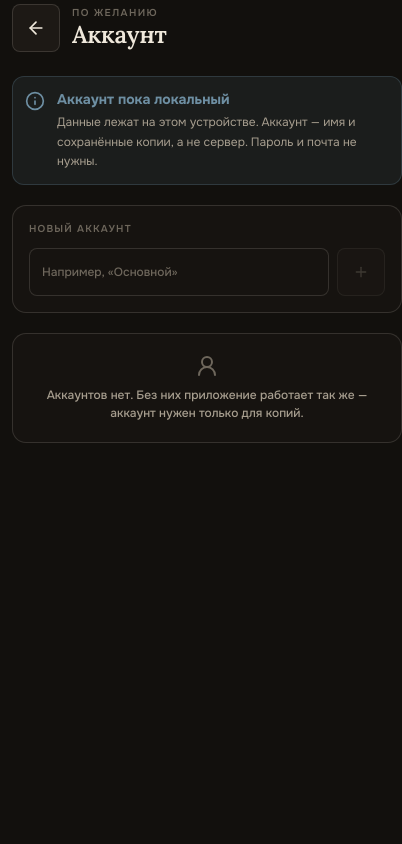
Test: Accounts page › creates an account and marks it as current
The width and height of the screenshot is (402, 844).
Type "Основной" into the field labelled "Новый аккаунт" at {"x": 179, "y": 272}, box [29,248,329,296]
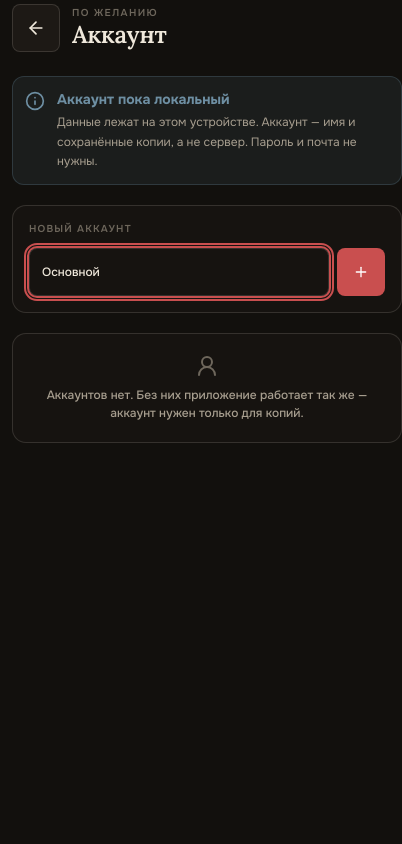
Click the button named "Создать аккаунт" at {"x": 361, "y": 272}, box [337,248,385,296]
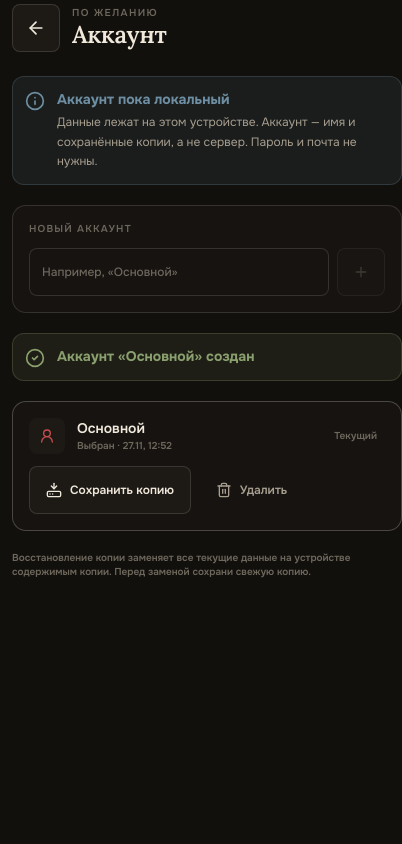
Expected: the text "Основной" is shown, [77,418,145,436]
Expected: the button "Текущий" is shown, [326,418,385,454]
